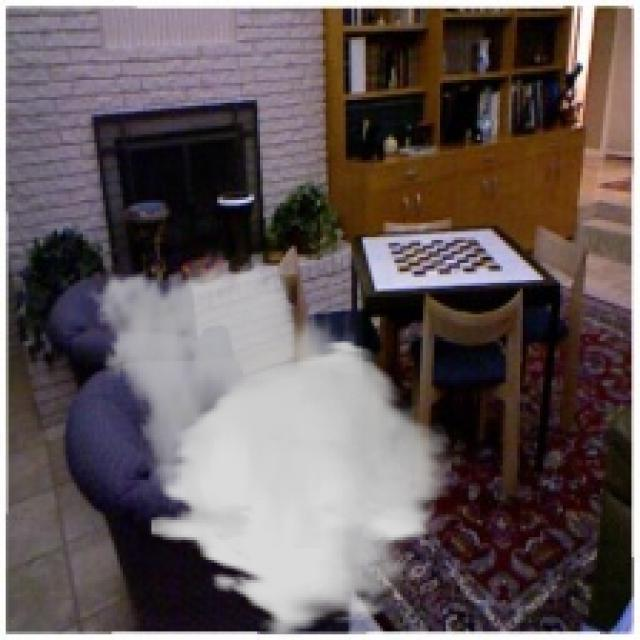Smoke: (80, 248, 452, 638)
